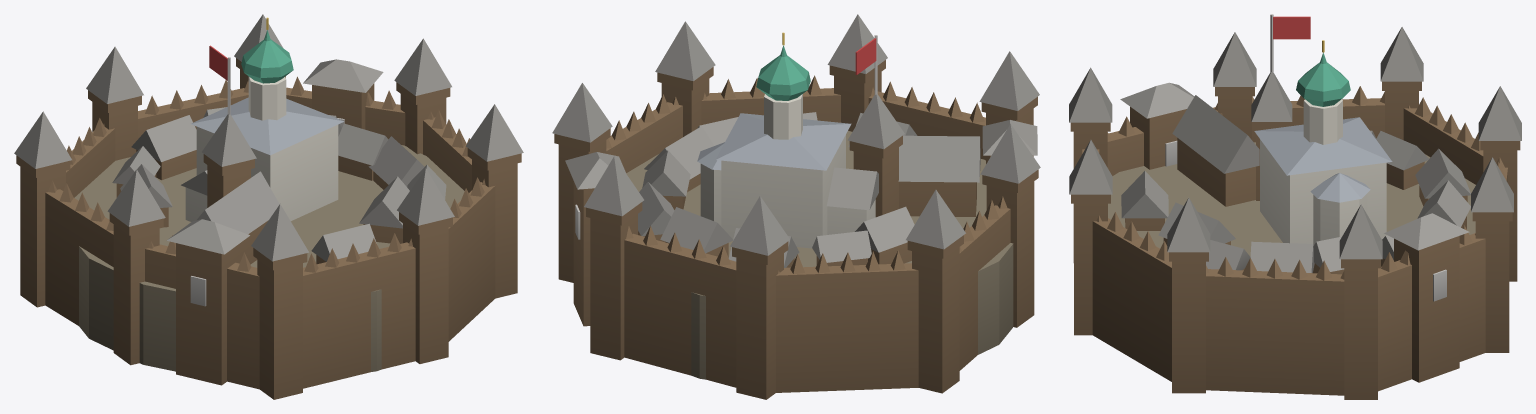
Rendered from town_rus_b.glb.
3 renders of one model, left to right at view 1: azimuth 30°, elevation 25°; view 2: azimuth 150°, elevation 25°; view 3: azimuth 270°, elevation 25°, orthographic. The views are drawn at different scales.
Visible parts, largest first — view 1: town_rus_b; view 2: town_rus_b; view 3: town_rus_b.
Part boxes in pixels (box(x1,y1,x2,y2)): town_rus_b: box(14, 14, 523, 399); town_rus_b: box(552, 14, 1040, 399); town_rus_b: box(1069, 14, 1521, 399).
Bounding box in the file's own units: 1.91 × 1.21 × 1.87.
